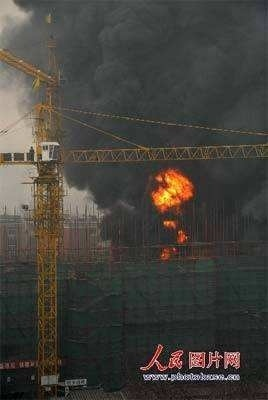fire: (148, 169, 195, 251)
